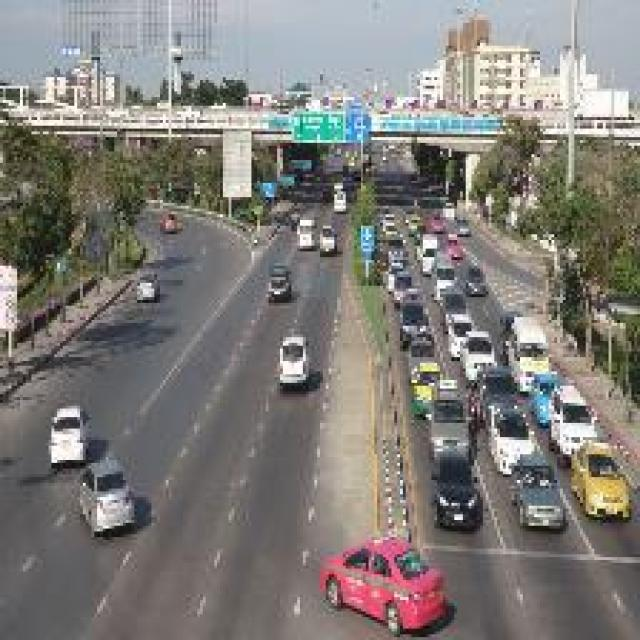other: (314, 519, 458, 627), (570, 429, 627, 532)
